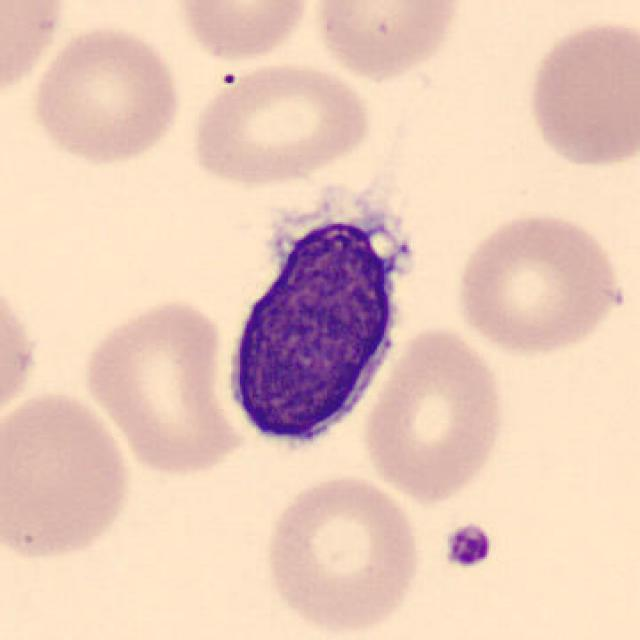Lymphocyte: (210, 187, 418, 460)
Platelets: (441, 520, 496, 571)
RBC: (77, 292, 247, 480), (359, 321, 510, 506), (259, 471, 426, 636), (450, 206, 628, 358), (185, 58, 379, 189), (0, 386, 137, 568), (27, 19, 185, 168), (521, 12, 638, 173), (311, 0, 466, 83), (169, 0, 316, 65), (0, 0, 69, 107), (0, 266, 43, 436)
